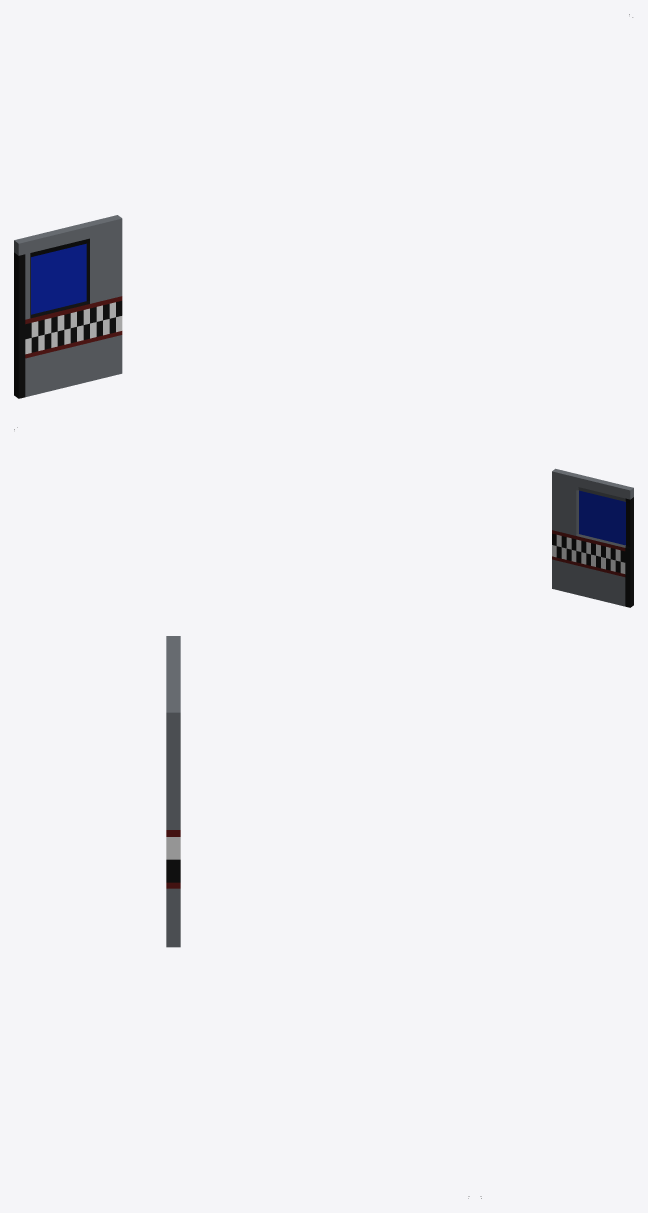
Rendered from ENVIRONMENT_WALL_WINDOW.fbx.
The picture shows the model from 3 angles, top to bottom: view 1: azimuth 30°, elevation 25°; view 2: azimuth 150°, elevation 25°; view 3: azimuth 270°, elevation 25°; orthographic projection. The views are drawn at different scales.
Parts seen in each view (by area): view 1: Cube.153; view 2: Cube.153; view 3: Cube.153.
Boxes of the visible parts, box(x1,y1,x2,y2) form: Cube.153: box(14, 215, 122, 398); Cube.153: box(552, 468, 633, 607); Cube.153: box(166, 636, 180, 947).
Bounding box in the file's own units: 3233 × 670 × 817.
